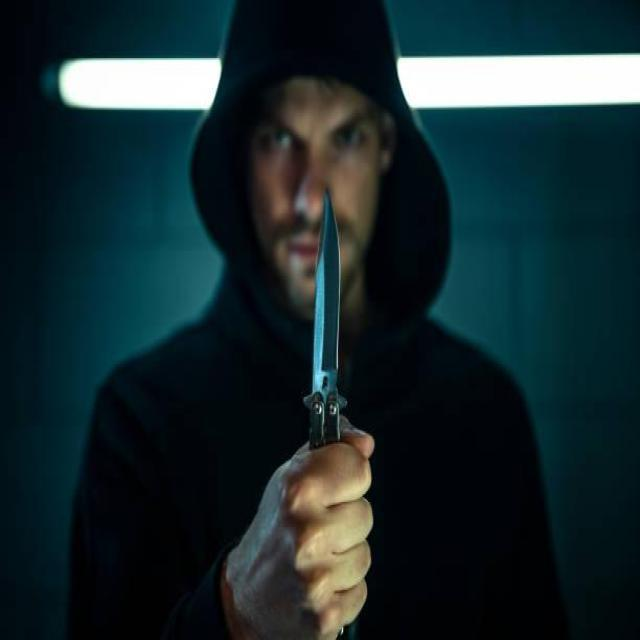faca: (235, 176, 393, 637)
